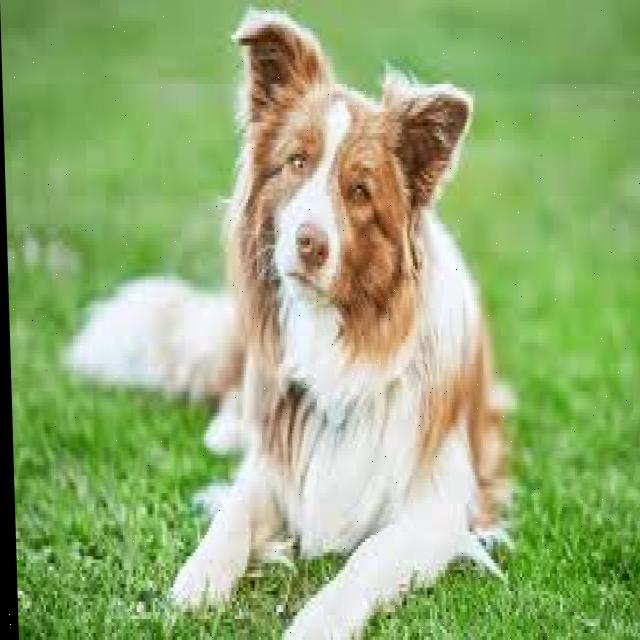BORDER_COLLIE: (55, 9, 536, 632)
